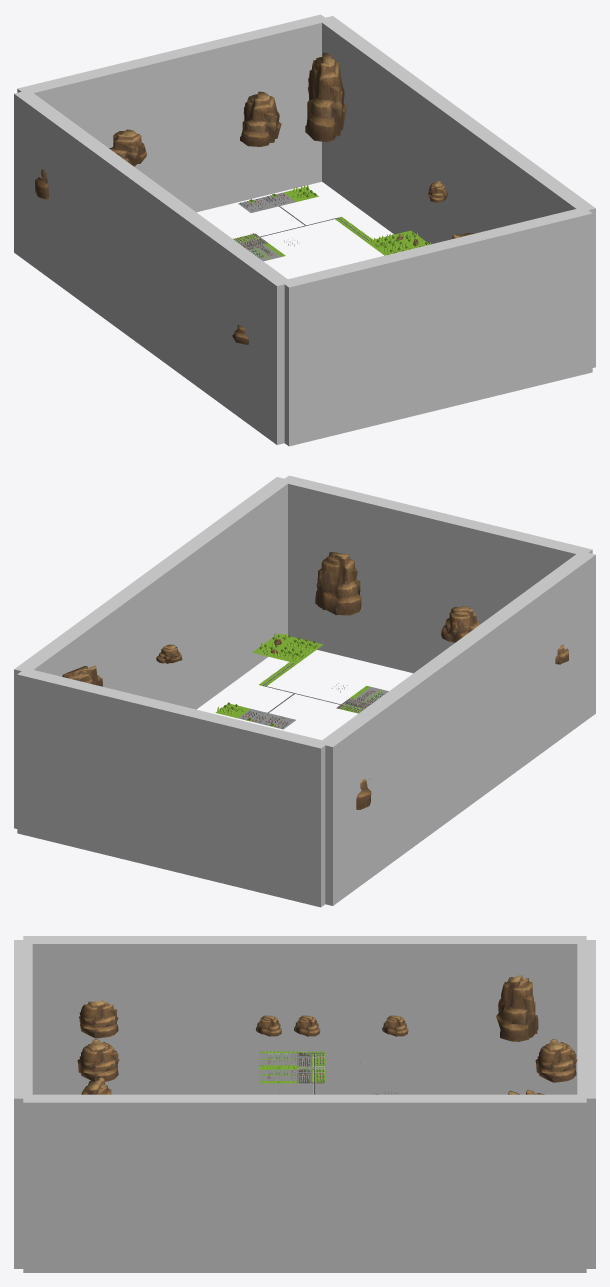
The picture shows the model from 3 angles, top to bottom: view 1: azimuth 30°, elevation 25°; view 2: azimuth 150°, elevation 25°; view 3: azimuth 270°, elevation 25°; orthographic projection. The views are drawn at different scales.
Visible parts, largest first — view 1: MapWall_01_02.002, MapWall_01_03.001, MapWall_01_02, MapWall_01_03, Natures_Mountain_RR-StoneA_01_01.006, Natures_Mountain_RR-StoneA_01_01.002, Natures_Mountain_RR-StoneA_01_01.004; view 2: MapWall_01_02, MapWall_01_03.001, MapWall_01_02.002, MapWall_01_03, Natures_Mountain_RR-StoneA_01_01, Natures_Mountain_RR-StoneA_01_01.001; view 3: MapWall_01_03, MapWall_01_03.001, MapWall_01_02.002, MapWall_01_02, Natures_Mountain_RR-StoneA_01_01.003, Natures_Mountain_RR-StoneA_01_01.004, Natures_Mountain_RR-StoneA_01_01.001, Natures_Mountain_RR-StoneA_01_01.005, Natures_Mountain_RR-StoneA_01_02.003.
Boxes of the visible parts, x1,y1,x2,y2 form: MapWall_01_02.002: (280, 208, 592, 446); MapWall_01_03.001: (14, 92, 291, 444); MapWall_01_02: (17, 14, 329, 212); MapWall_01_03: (318, 16, 595, 367); Natures_Mountain_RR-StoneA_01_01.006: (305, 52, 346, 142); Natures_Mountain_RR-StoneA_01_01.002: (240, 91, 281, 146); Natures_Mountain_RR-StoneA_01_01.004: (109, 129, 146, 166); MapWall_01_02: (17, 668, 326, 907); MapWall_01_03.001: (318, 551, 595, 905); MapWall_01_02.002: (281, 475, 592, 673); MapWall_01_03: (14, 477, 291, 828); Natures_Mountain_RR-StoneA_01_01: (315, 552, 361, 615); Natures_Mountain_RR-StoneA_01_01.001: (441, 606, 479, 642); MapWall_01_03: (23, 1094, 586, 1272); MapWall_01_03.001: (23, 936, 586, 1094); MapWall_01_02.002: (14, 940, 32, 1268); MapWall_01_02: (577, 940, 595, 1268); Natures_Mountain_RR-StoneA_01_01.003: (496, 975, 538, 1041); Natures_Mountain_RR-StoneA_01_01.004: (535, 1039, 577, 1082); Natures_Mountain_RR-StoneA_01_01.001: (77, 1039, 119, 1081); Natures_Mountain_RR-StoneA_01_01.005: (79, 1000, 118, 1038); Natures_Mountain_RR-StoneA_01_02.003: (382, 1015, 408, 1036).
Size of the model in its own units: 4290 by 2000 by 6200.
Materials: 44 (44 with a texture image).
